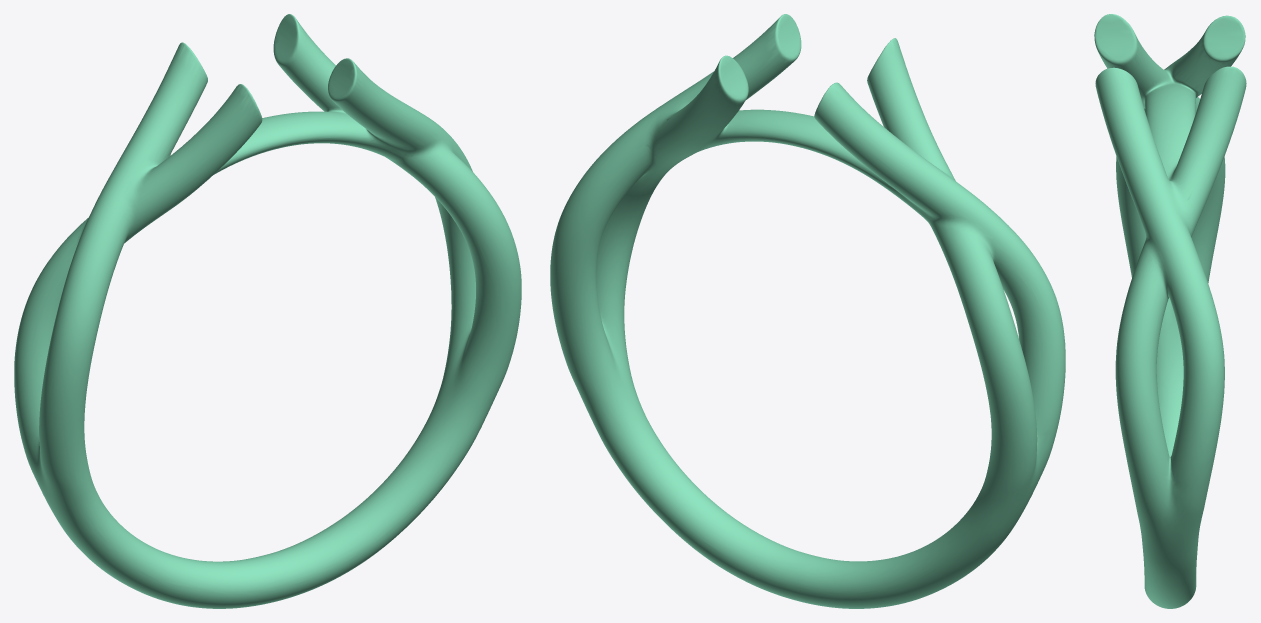
The picture shows the model from 3 angles, left to right: view 1: azimuth 30°, elevation 25°; view 2: azimuth 150°, elevation 25°; view 3: azimuth 270°, elevation 25°; orthographic projection.
Parts seen in each view (by area): view 1: Metal02; view 2: Metal02; view 3: Metal02.
Part boxes in pixels (x1,y1,x2,y2): Metal02: (14, 14, 521, 608); Metal02: (550, 14, 1065, 608); Metal02: (1094, 14, 1246, 608).
Bounding box in the file's own units: 21.01 × 23.1 × 5.86.
